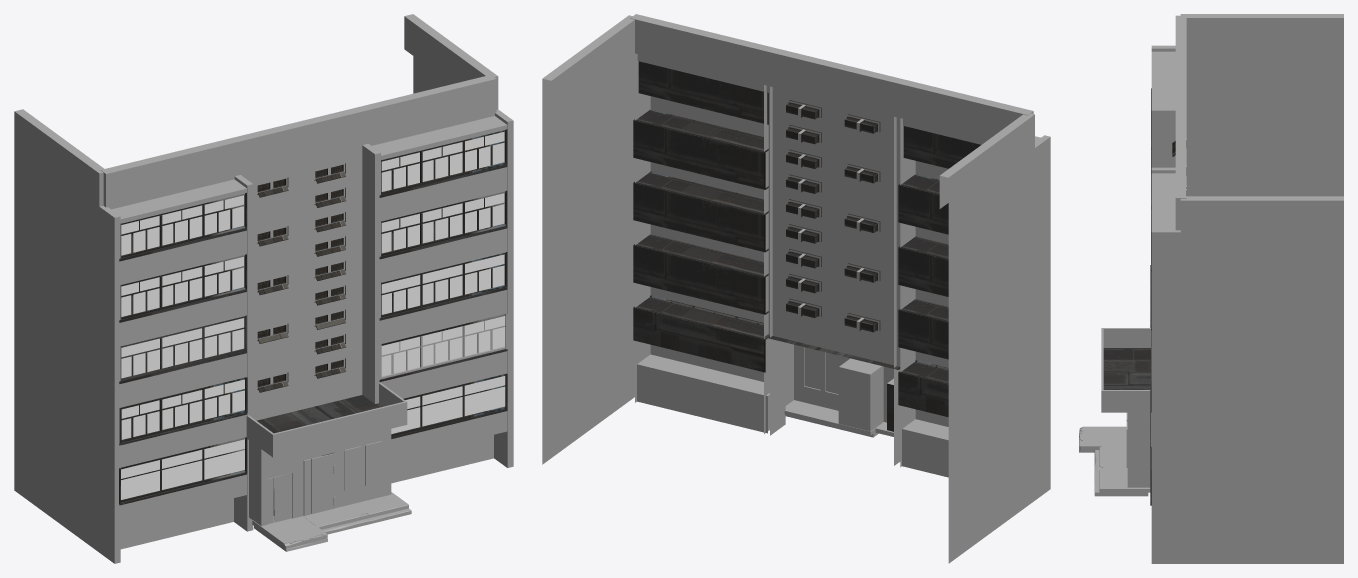
The model's file is bz_panel_01_collection.fbx.
The picture shows the model from 3 angles, left to right: view 1: azimuth 30°, elevation 25°; view 2: azimuth 150°, elevation 25°; view 3: azimuth 270°, elevation 25°; orthographic projection. The views are drawn at different scales.
Visible parts, largest first — view 1: bz_panel_01, bz_panel_01_window_panel, bz_panel_01_concfloor, bz_panel_01door_01, bz_panel_01door_02; view 2: bz_panel_01, bz_panel_01_concfloor, bz_panel_01_window_panel; view 3: bz_panel_01, bz_panel_01_concfloor, bz_panel_01_window_panel.
Boxes of the visible parts, box(x1,y1,x2,y2) form: bz_panel_01: box(14, 14, 513, 563); bz_panel_01_window_panel: box(119, 129, 507, 505); bz_panel_01_concfloor: box(252, 492, 411, 551); bz_panel_01door_01: box(311, 453, 335, 513); bz_panel_01door_02: box(273, 473, 292, 522); bz_panel_01: box(542, 14, 1050, 563); bz_panel_01_concfloor: box(784, 400, 893, 437); bz_panel_01_window_panel: box(650, 109, 948, 368); bz_panel_01: box(1101, 14, 1343, 563); bz_panel_01_concfloor: box(1079, 426, 1150, 496); bz_panel_01_window_panel: box(1150, 88, 1151, 505).
Size of the model in its own units: 18.39 by 16.72 by 11.03.
